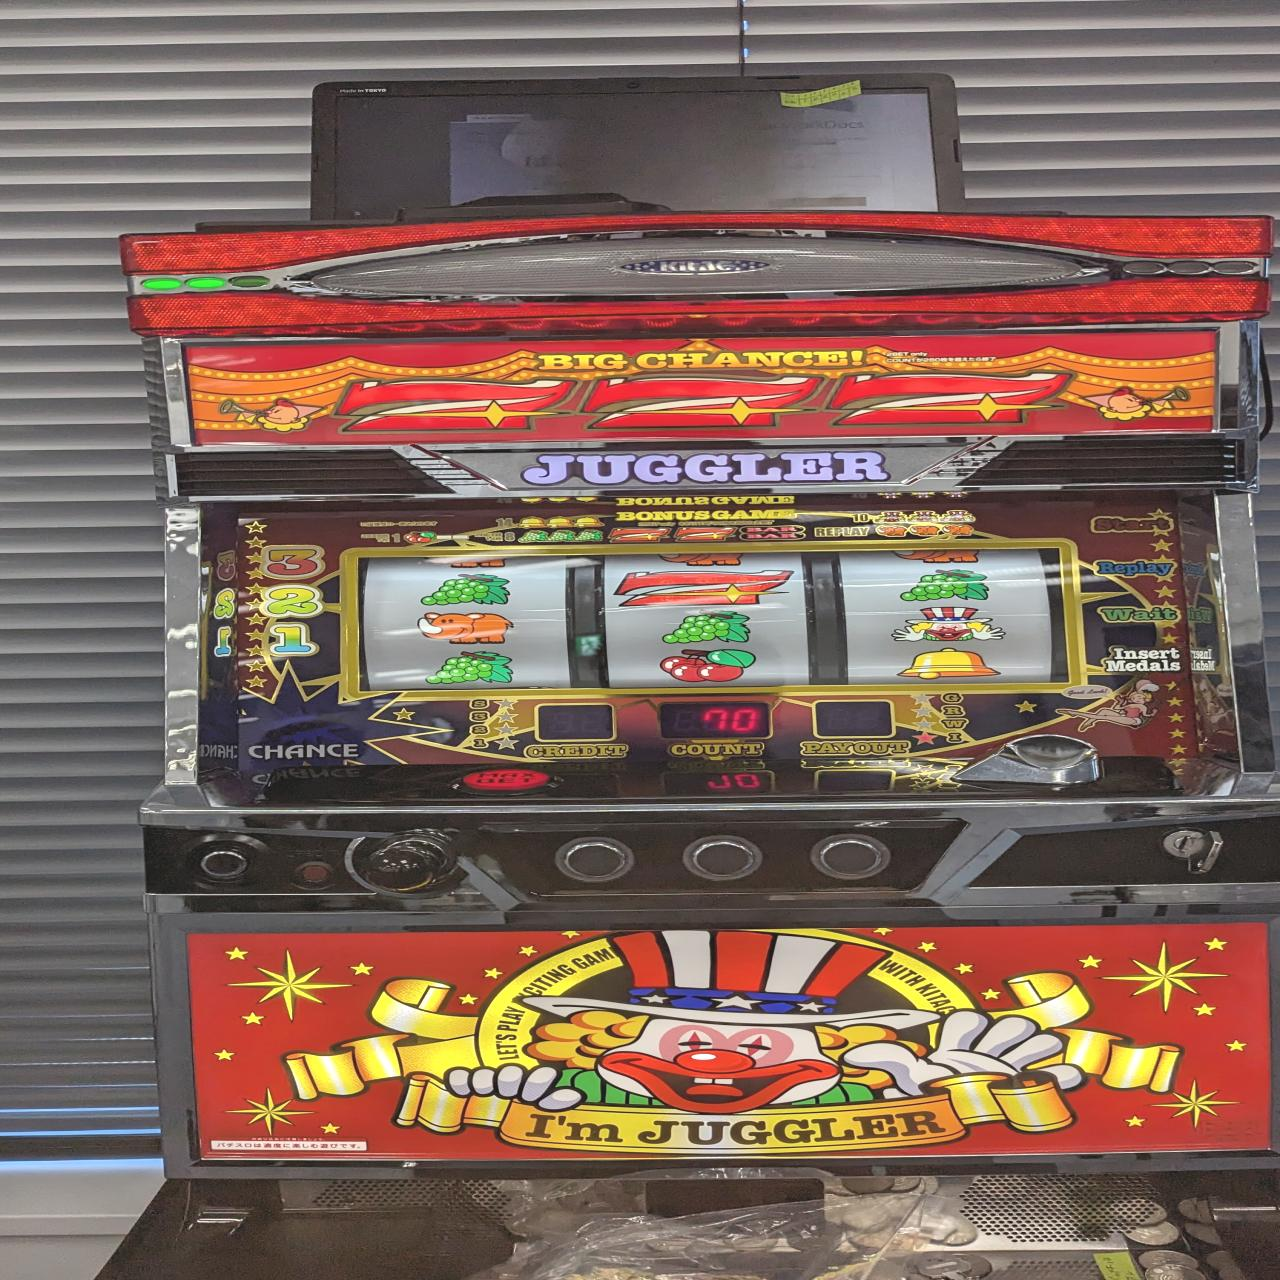7: (617, 571, 794, 607)
8: (416, 612, 513, 645)
Display: (348, 545, 1081, 689)
bell: (896, 647, 1001, 678)
cherry: (659, 648, 760, 682)
clown: (891, 606, 1006, 641)
grape: (417, 572, 515, 607), (663, 610, 755, 642), (898, 570, 992, 601), (425, 652, 512, 683)
